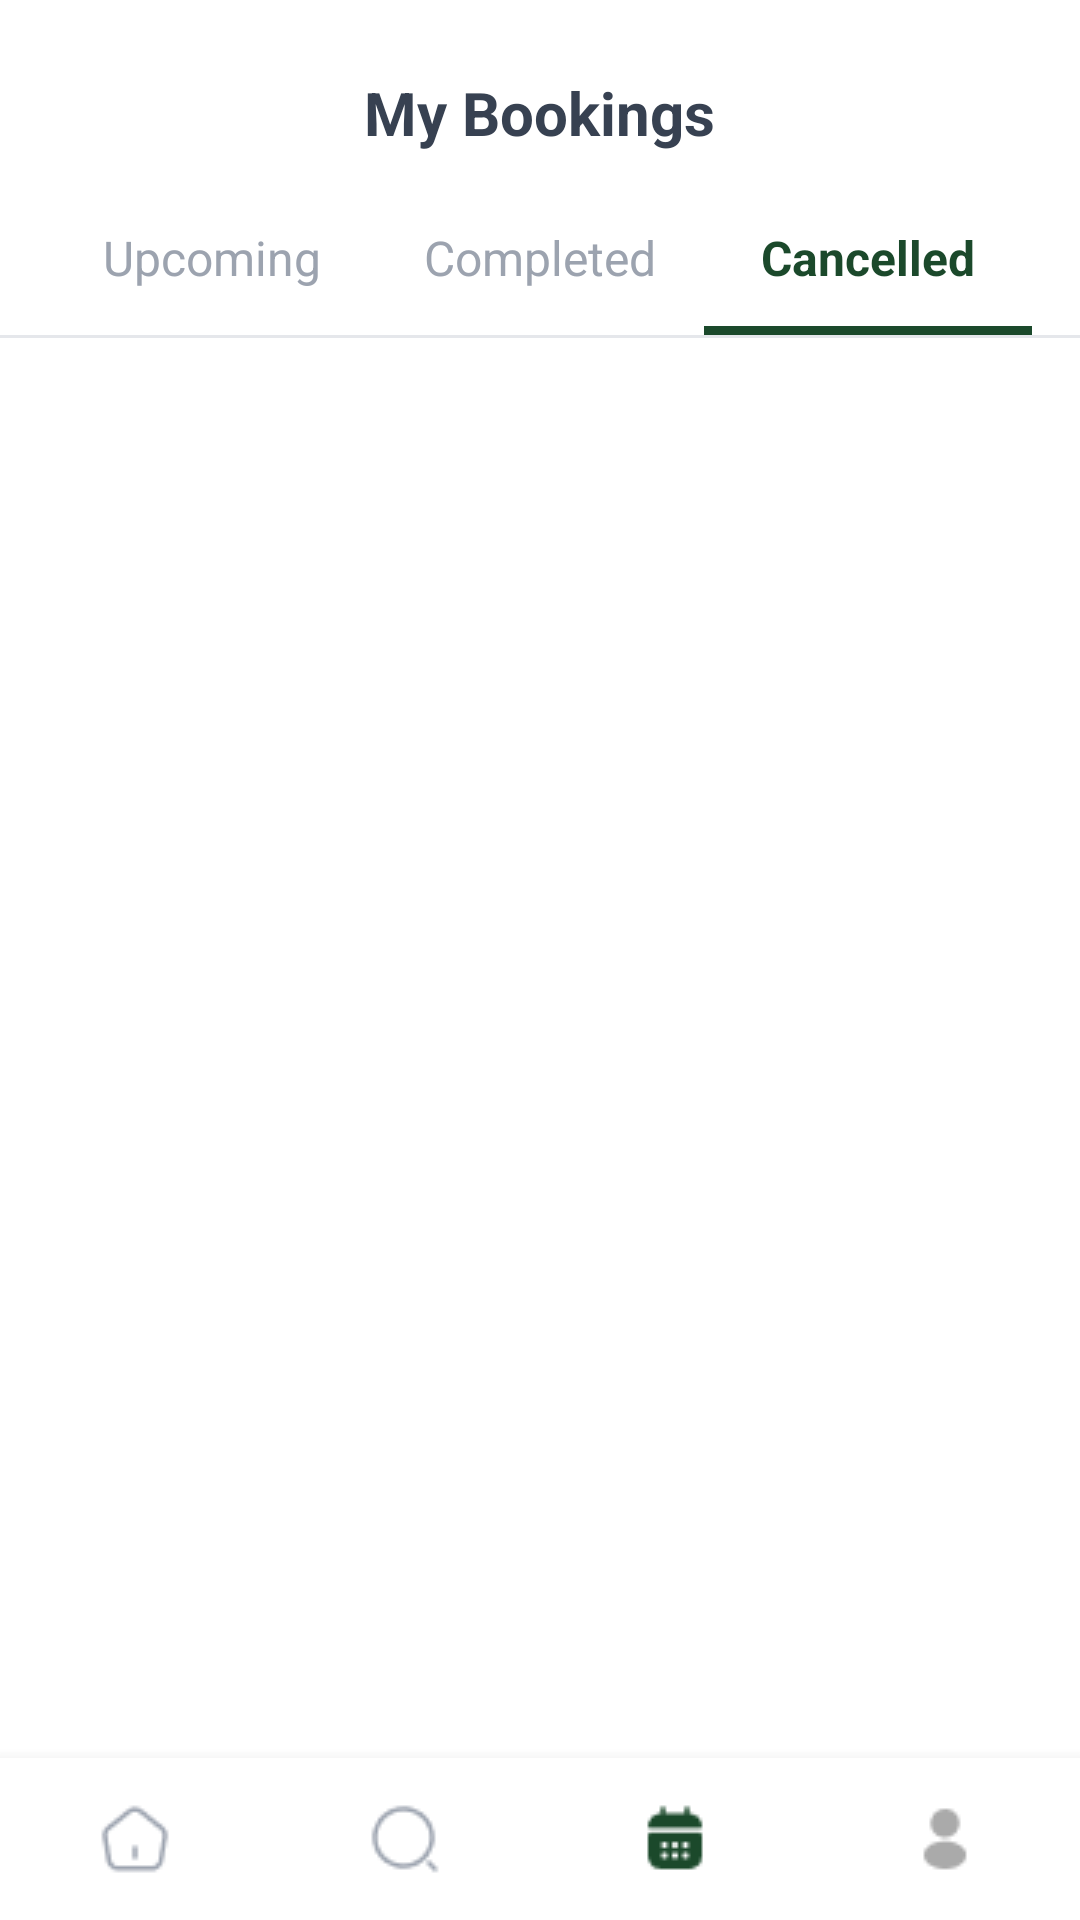

Icons on this 1080px×1920px Android screen, each with its box as (x1, y1, x2, y2):
calendar: (647, 1805, 703, 1870)
home: (102, 1806, 168, 1872)
profile: (923, 1808, 967, 1870)
search: (371, 1805, 438, 1872)
